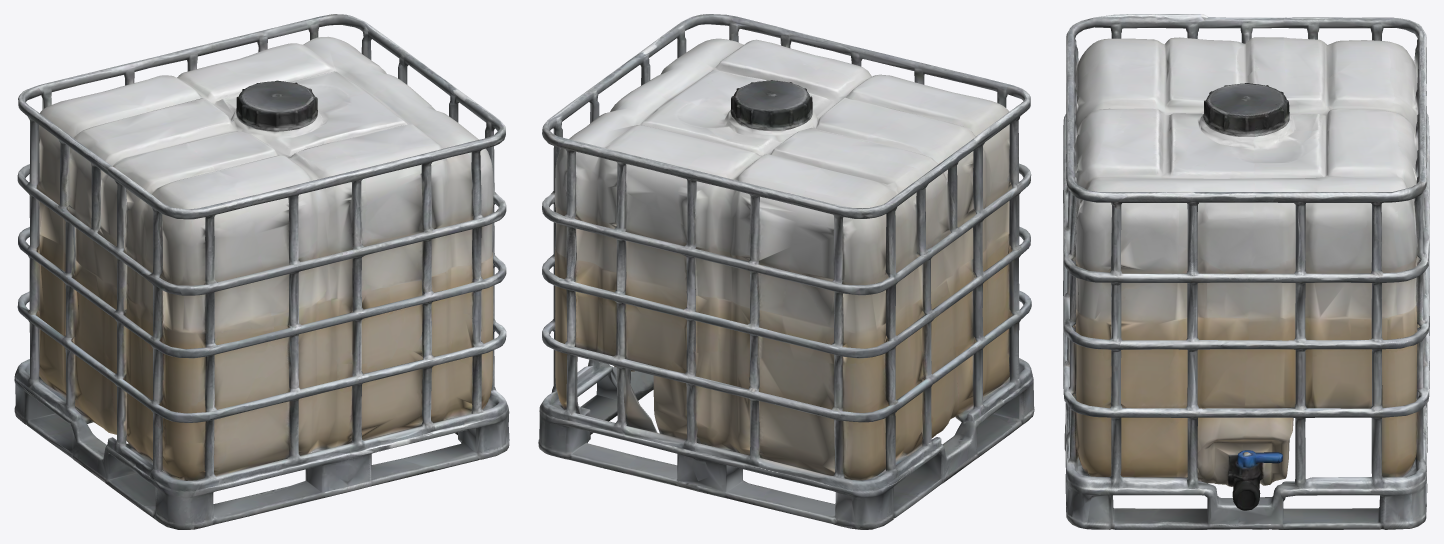
Rendered from oyh-ibc.glb.
3 views of the same model, side by side, from view 1: azimuth 30°, elevation 25°; view 2: azimuth 150°, elevation 25°; view 3: azimuth 270°, elevation 25° (orthographic). The views are drawn at different scales.
Visible parts, largest first — view 1: tripo_node_ccd77ef1-029c-4a38-80cb-9c578ac29b8e; view 2: tripo_node_ccd77ef1-029c-4a38-80cb-9c578ac29b8e; view 3: tripo_node_ccd77ef1-029c-4a38-80cb-9c578ac29b8e.
Boxes of the visible parts, bbox=[...] form: tripo_node_ccd77ef1-029c-4a38-80cb-9c578ac29b8e: bbox=[14, 14, 509, 529]; tripo_node_ccd77ef1-029c-4a38-80cb-9c578ac29b8e: bbox=[538, 14, 1034, 529]; tripo_node_ccd77ef1-029c-4a38-80cb-9c578ac29b8e: bbox=[1063, 14, 1429, 529].
Size of the model in its own units: 0.9998 by 0.8385 by 0.7933.
Materials: 1 (1 with a texture image).
